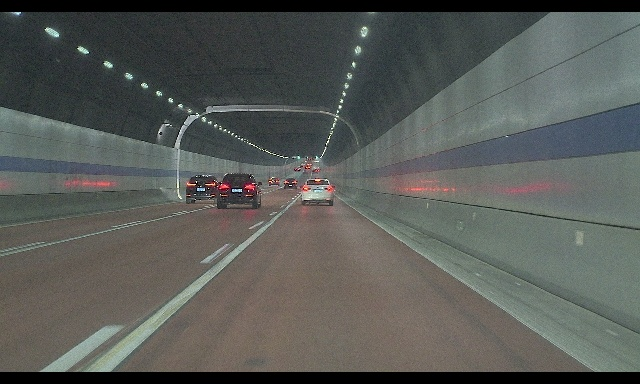car: (217, 173, 263, 209), (185, 175, 222, 204), (299, 179, 335, 206), (284, 178, 298, 189), (269, 177, 280, 186)
